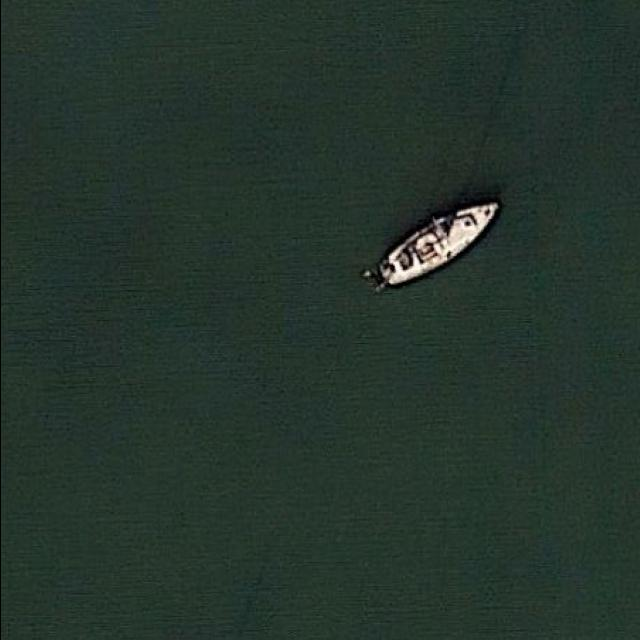ship: (367, 190, 507, 292)
